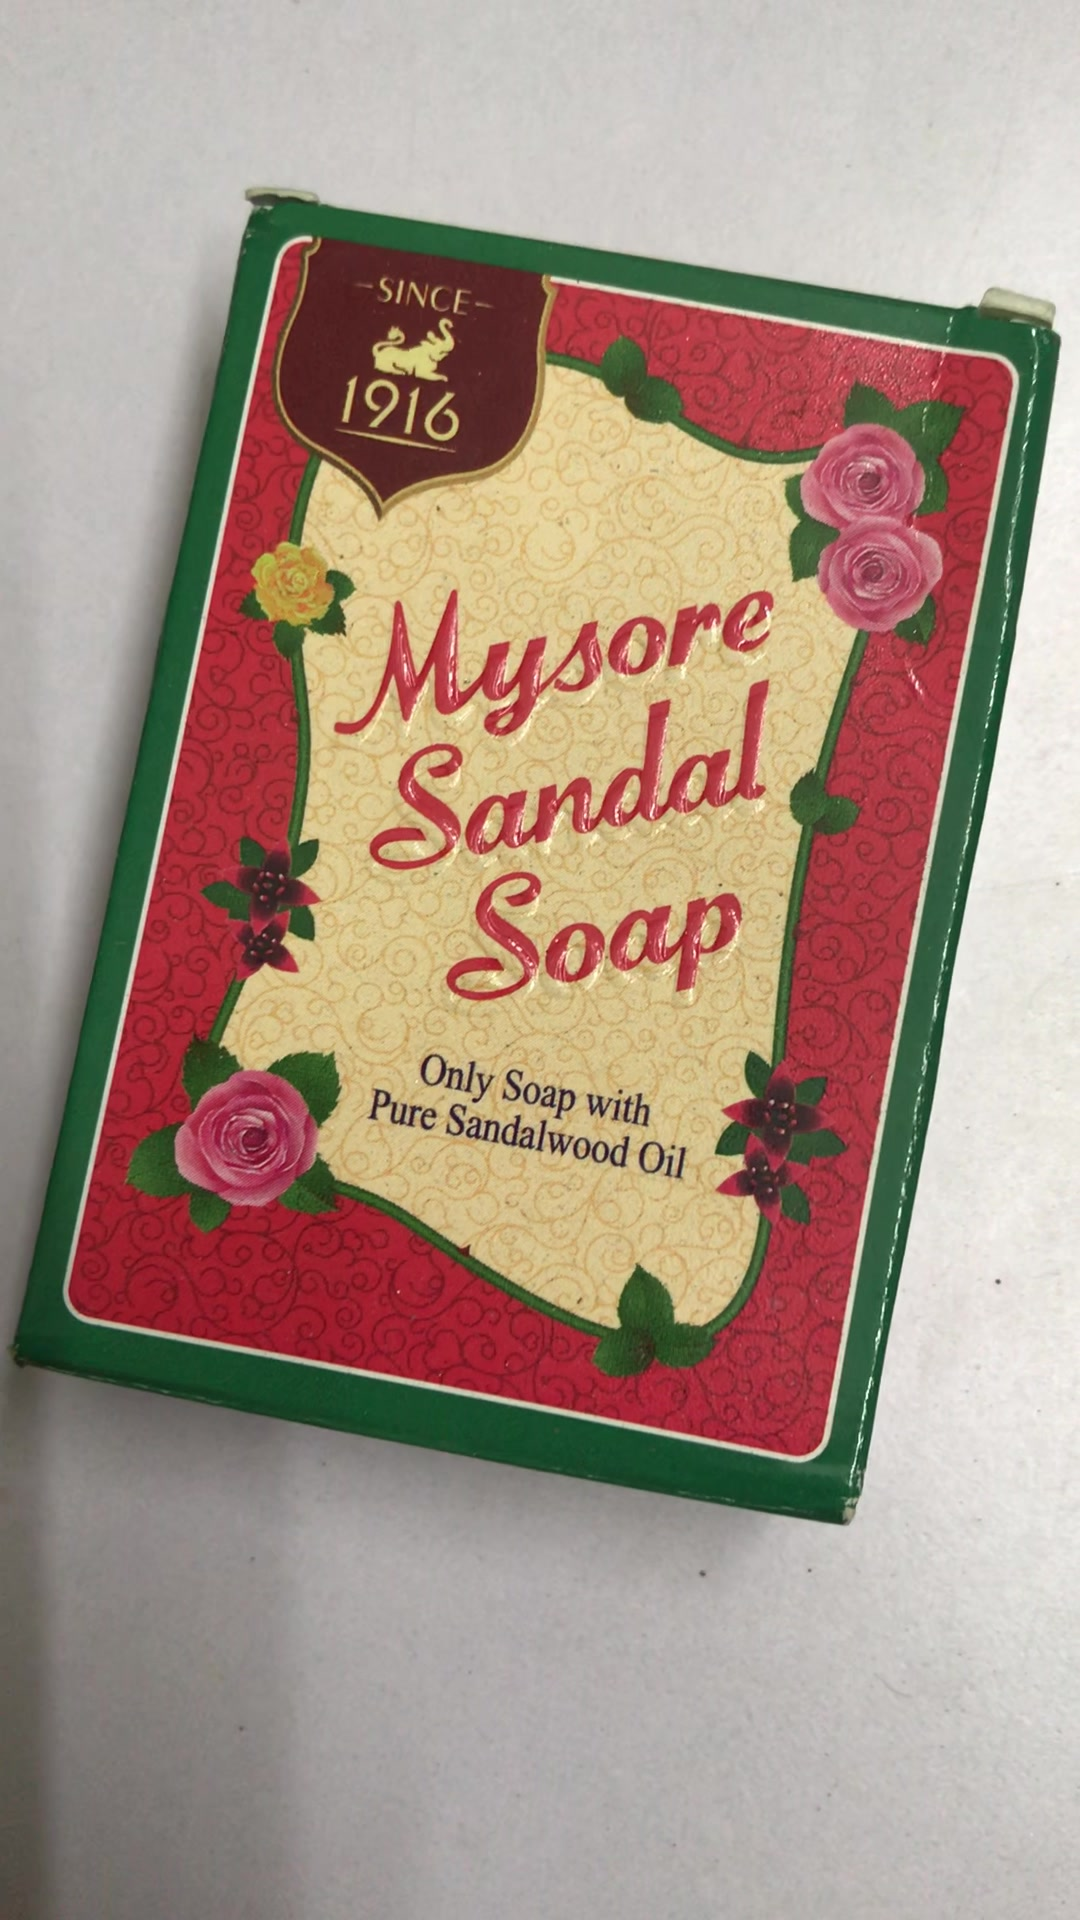mysore sandal soap: (13, 181, 1055, 1523)
